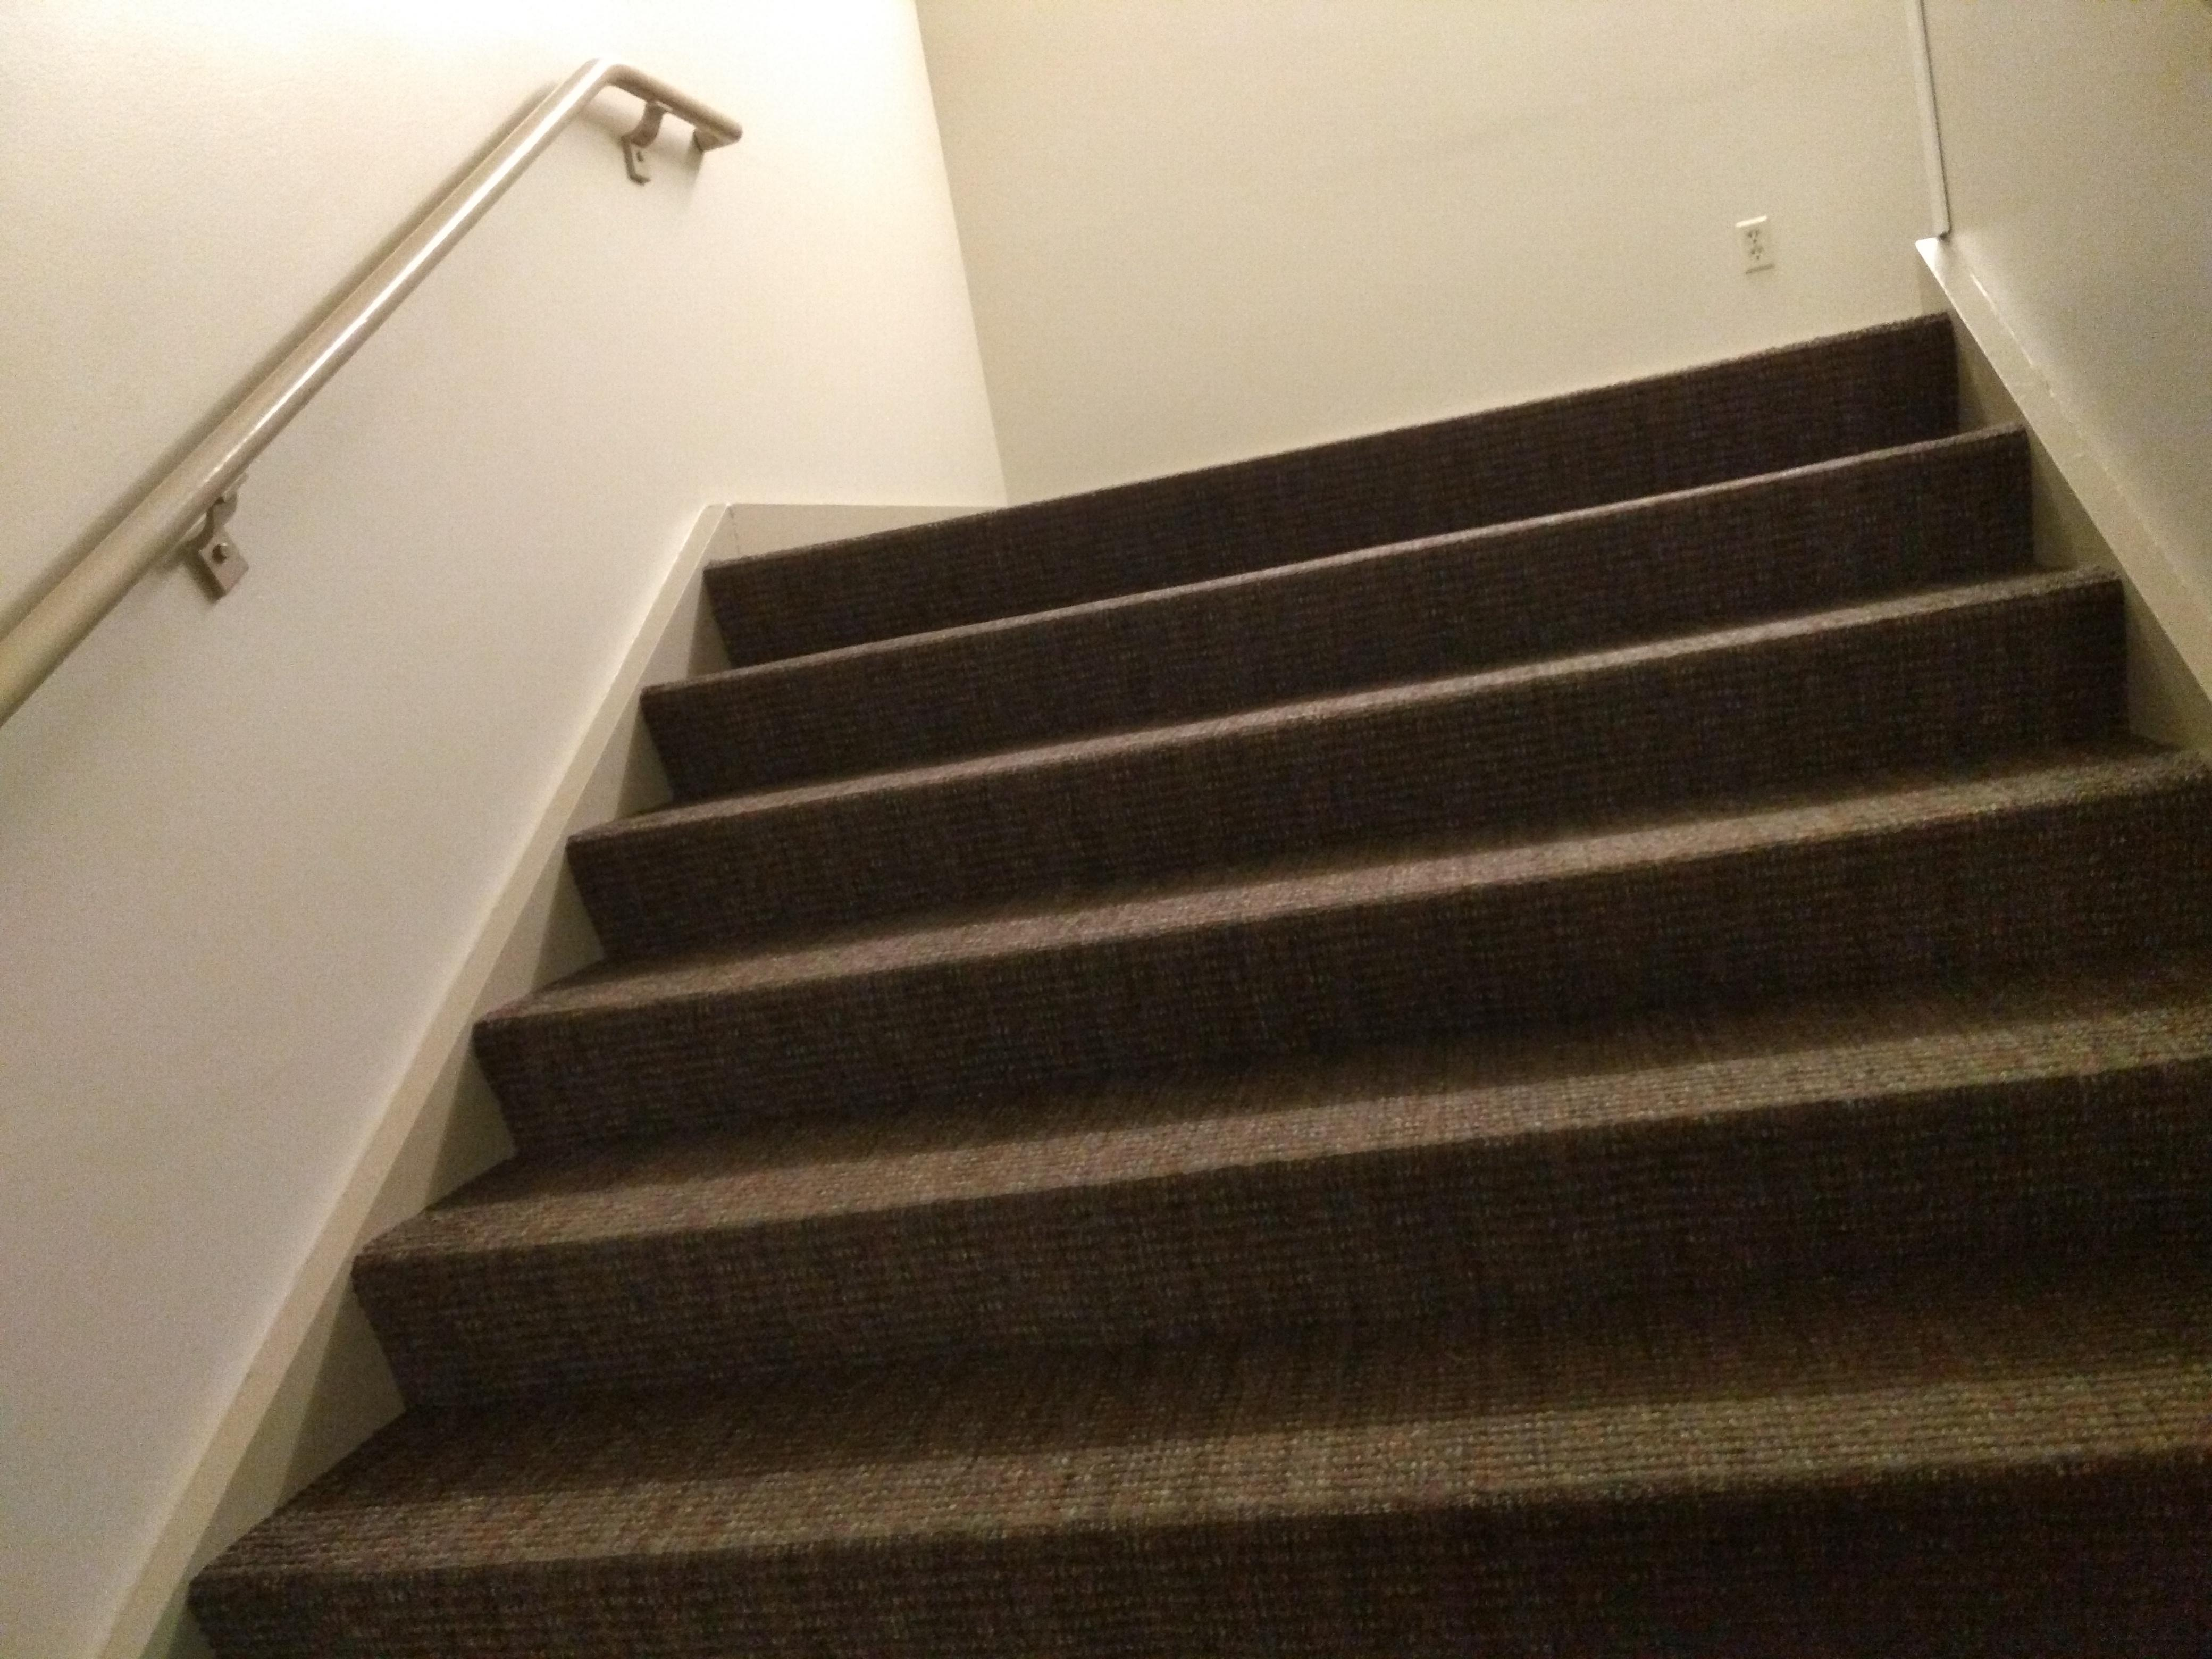stairs_up: (183, 315, 2181, 1617)
